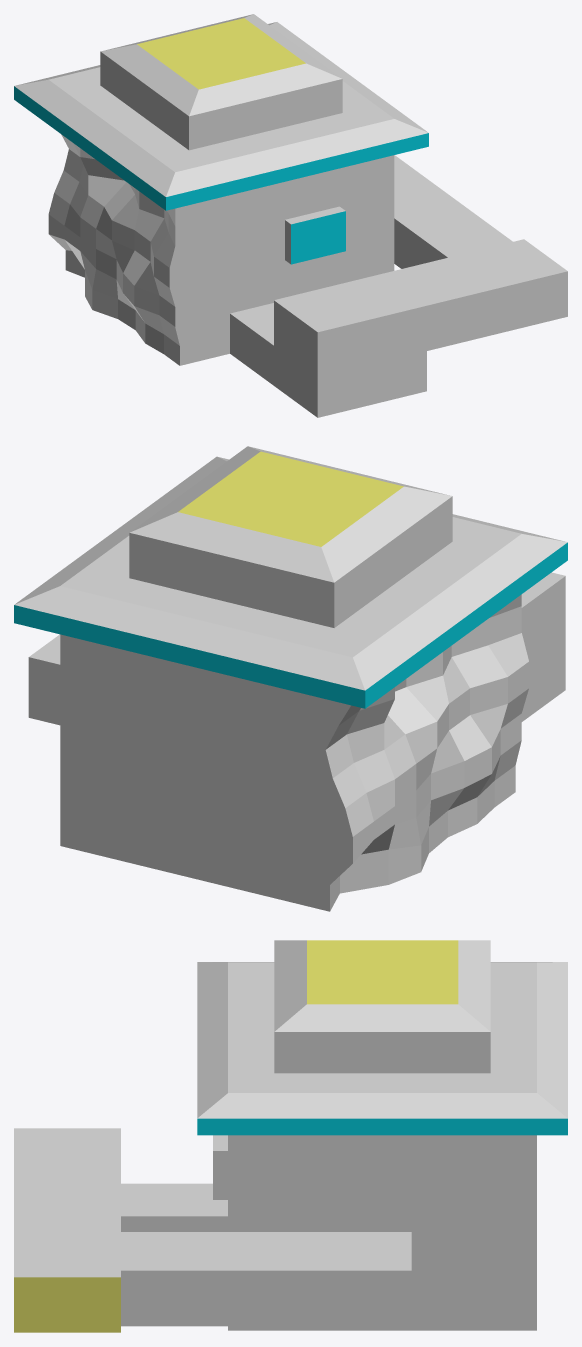
The model's file is randomroom 1.fbx.
3 renders of one model, top to bottom at view 1: azimuth 30°, elevation 25°; view 2: azimuth 150°, elevation 25°; view 3: azimuth 270°, elevation 25°, orthographic. The views are drawn at different scales.
Parts seen in each view (by area): view 1: Cube; view 2: Cube; view 3: Cube.
Part boxes in pixels (x1=…): Cube: x1=14, y1=14, x2=567, y2=417; Cube: x1=14, y1=446, x2=567, y2=911; Cube: x1=14, y1=940, x2=567, y2=1332.
Bounding box in the file's own units: 6641 × 4661 × 7987.
